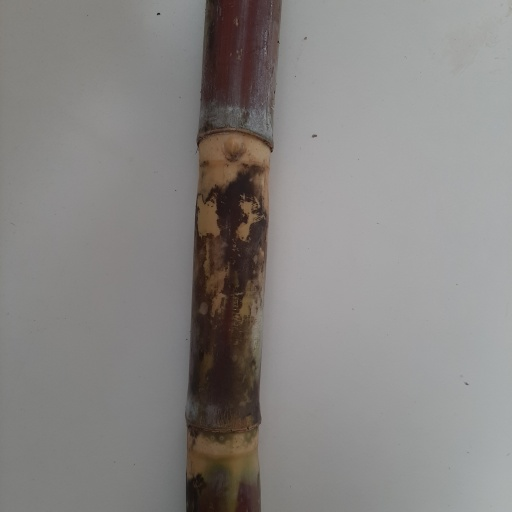Bud: (222, 136, 248, 163)
